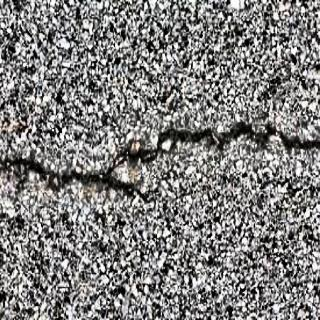crack: (2, 110, 317, 208)
